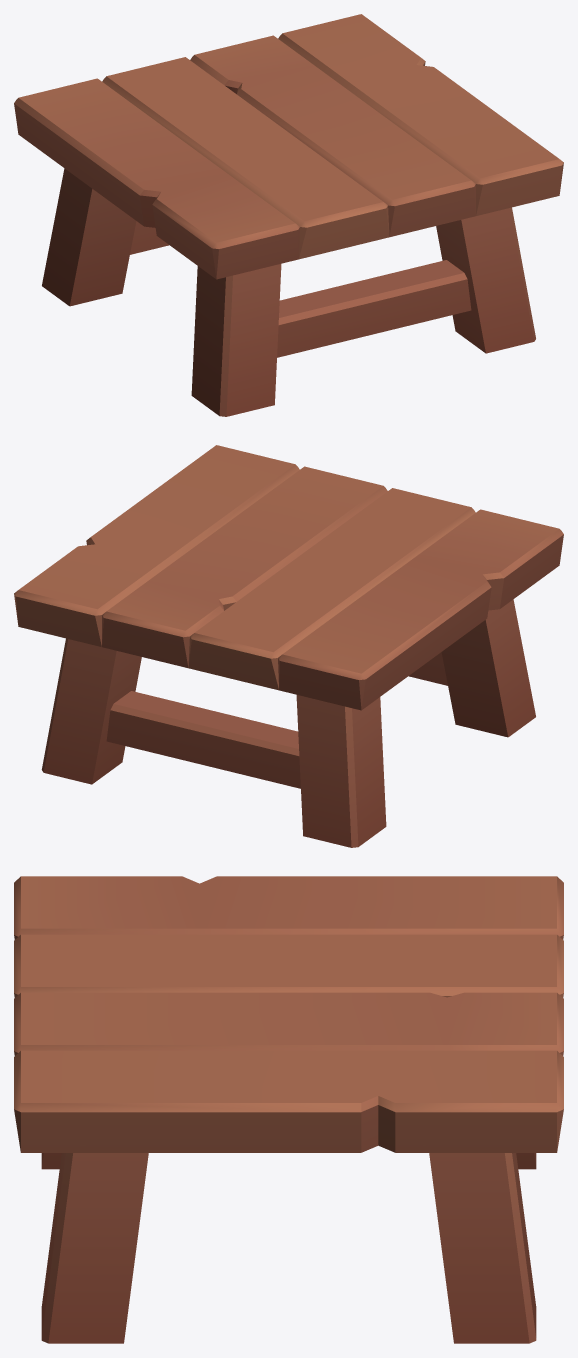
The model's file is table.fbx.
3 renders of one model, top to bottom at view 1: azimuth 30°, elevation 25°; view 2: azimuth 150°, elevation 25°; view 3: azimuth 270°, elevation 25°, orthographic. The views are drawn at different scales.
Parts seen in each view (by area): view 1: table_medium; view 2: table_medium; view 3: table_medium.
Boxes of the visible parts, x1=… form: table_medium: x1=14, y1=14, x2=563, y2=416; table_medium: x1=14, y1=445, x2=563, y2=847; table_medium: x1=14, y1=876, x2=563, y2=1343.
Bounding box in the file's own units: 200 × 100 × 200.
1 material, 1 textured.
